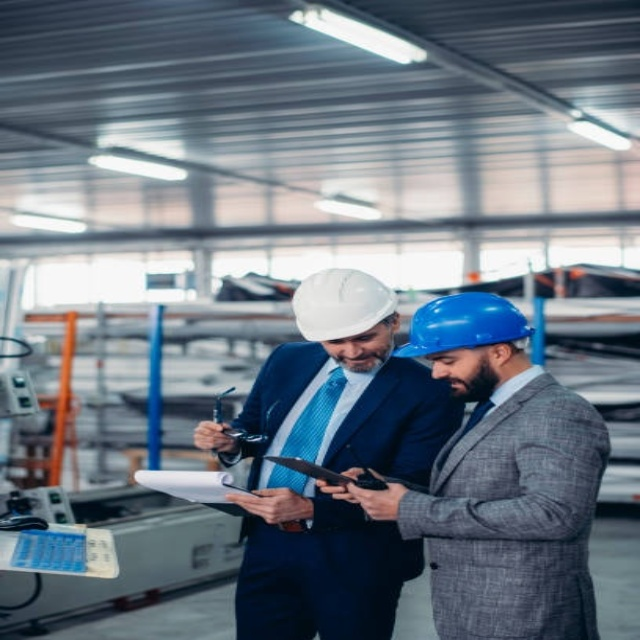Sin_gafas: (424, 355, 474, 369)
Sin_guantes: (325, 470, 406, 520), (223, 487, 309, 525), (193, 419, 238, 451)
Sin_mascara: (337, 350, 376, 371), (441, 376, 474, 397)
